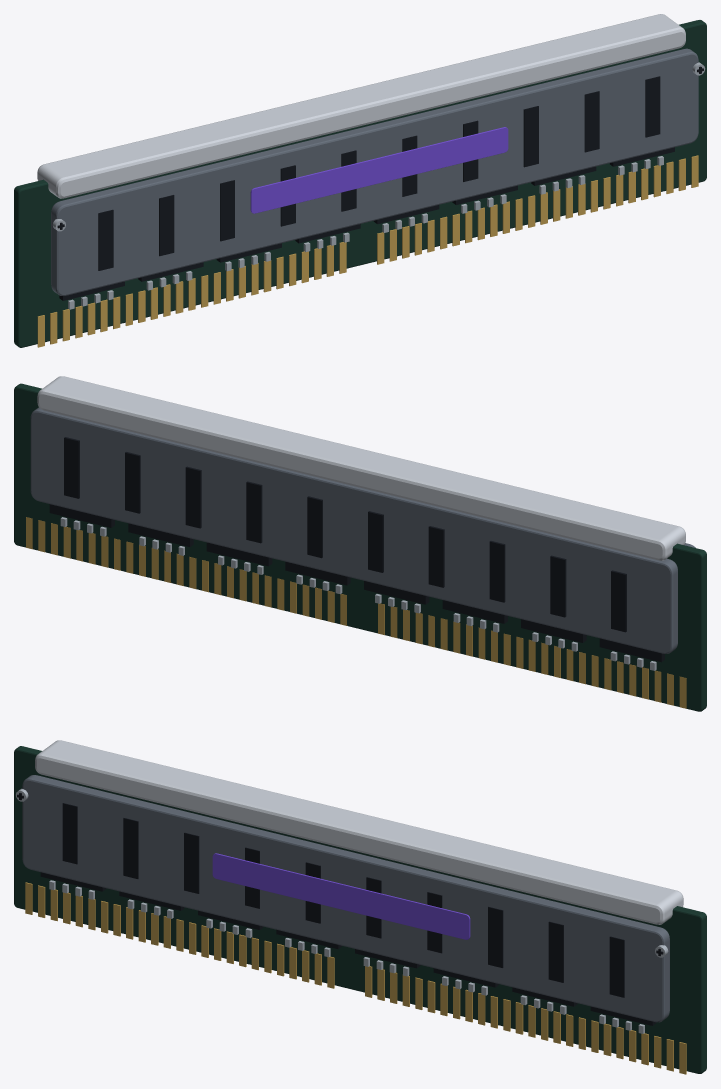
File: nexrig-ram.glb
3 views of the same model, one above another, from view 1: azimuth 30°, elevation 25°; view 2: azimuth 150°, elevation 25°; view 3: azimuth 330°, elevation 25° (orthographic).
Parts seen in each view (by area): view 1: Original generic memory module; view 2: Original generic memory module; view 3: Original generic memory module.
Boxes of the visible parts, box(x1,y1,x2,y2) form: Original generic memory module: box(14, 14, 706, 347); Original generic memory module: box(14, 376, 706, 711); Original generic memory module: box(14, 740, 706, 1074).
Size of the model in its own units: 1.32 by 0.3071 by 0.1165.
